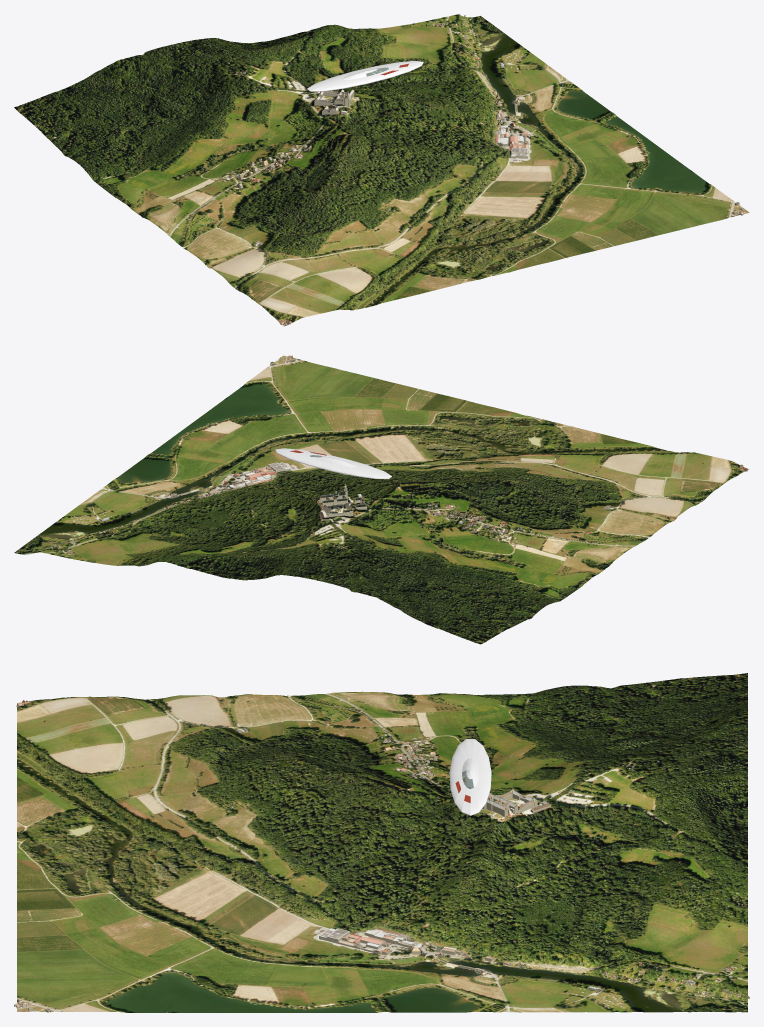
File: asset.glb
3 renders of one model, top to bottom at view 1: azimuth 30°, elevation 25°; view 2: azimuth 150°, elevation 25°; view 3: azimuth 270°, elevation 25°, orthographic. The views are drawn at different scales.
Parts seen in each view (by area): view 1: DGM_10m_KlosterBanz, Dach, Ufo, Wand; view 2: DGM_10m_KlosterBanz, Dach, Wand, Ufo; view 3: DGM_10m_KlosterBanz, Dach, Wand, Ufo.
Boxes of the visible parts, x1,y1,x2,y2 form: DGM_10m_KlosterBanz: (14, 14, 749, 326); Dach: (215, 15, 744, 323); Ufo: (307, 60, 423, 91); Wand: (215, 15, 744, 324); DGM_10m_KlosterBanz: (14, 355, 749, 644); Dach: (28, 355, 747, 554); Wand: (28, 355, 747, 554); Ufo: (275, 448, 391, 479); DGM_10m_KlosterBanz: (17, 673, 747, 1012); Dach: (14, 698, 749, 1010); Wand: (14, 702, 749, 1012); Ufo: (449, 739, 491, 815).
Bounding box in the file's own units: 1996 × 299 × 2003.
Materials: 8 (3 with a texture image).
